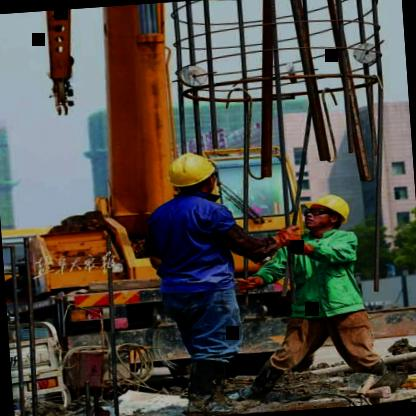helmet: (162, 146, 225, 203), (297, 190, 354, 236)
